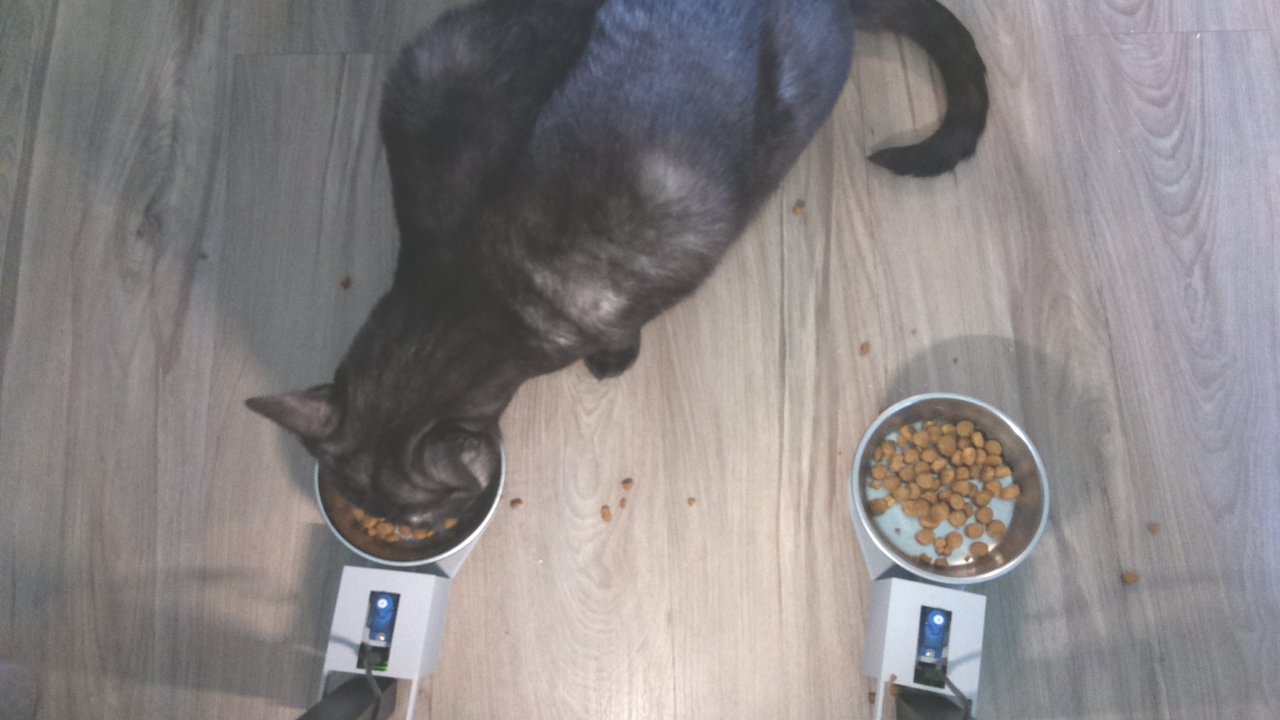open_bowl: (849, 386, 1056, 589)
saki_eating: (236, 340, 526, 579)
